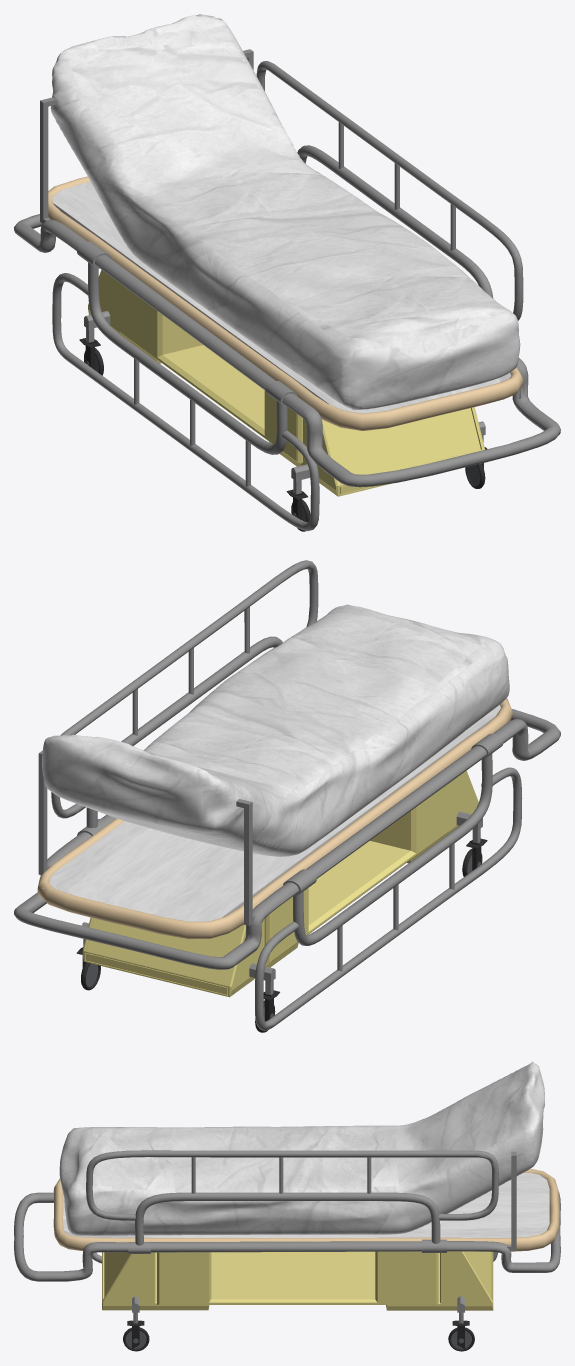
Rendered from HospitalBed.fbx.
3 renders of one model, top to bottom at view 1: azimuth 30°, elevation 25°; view 2: azimuth 150°, elevation 25°; view 3: azimuth 270°, elevation 25°, orthographic. The views are drawn at different scales.
Visible parts, largest first — view 1: Bed; view 2: Bed; view 3: Bed.
Part boxes in pixels (box(x1,y1,x2,y2)): Bed: box(14, 14, 560, 531); Bed: box(14, 560, 560, 1032); Bed: box(14, 1061, 560, 1351).
Size of the model in its own units: 350 by 440 by 942.
